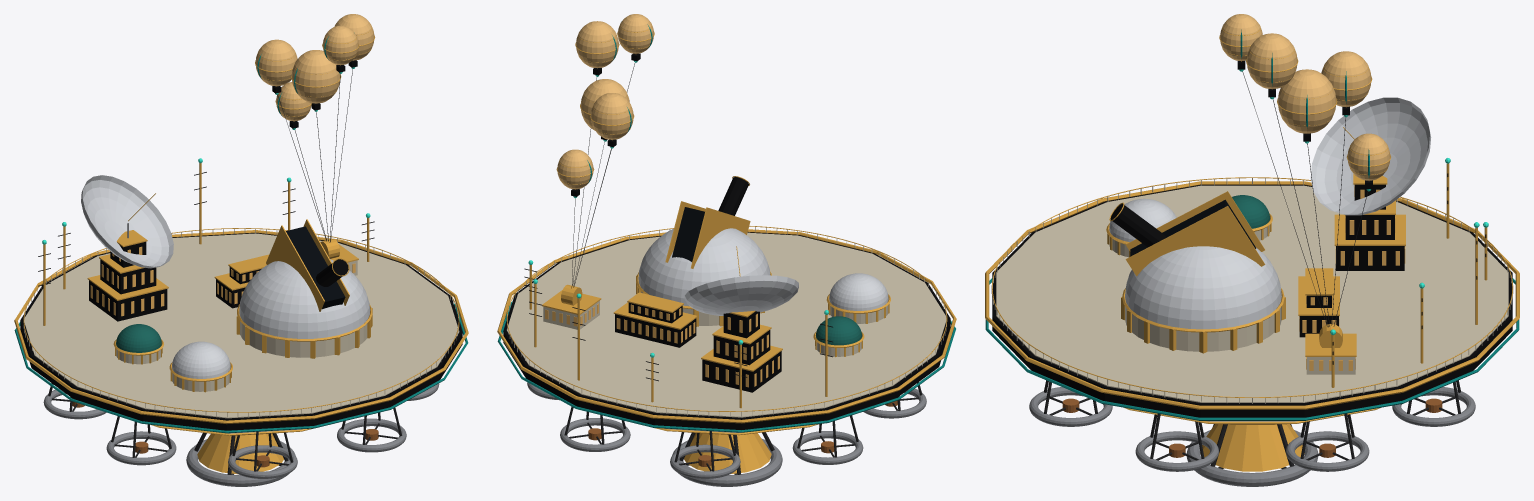
The model's file is station_science.obj.
3 views of the same model, side by side, from view 1: azimuth 30°, elevation 25°; view 2: azimuth 150°, elevation 25°; view 3: azimuth 270°, elevation 25° (orthographic). The views are drawn at different scales.
Parts seen in each view (by area): view 1: station_science; view 2: station_science; view 3: station_science.
Boxes of the visible parts, left/top/right/bottom form: station_science: left=14, top=14, right=468, bottom=486; station_science: left=497, top=14, right=956, bottom=486; station_science: left=985, top=14, right=1519, bottom=486.
Size of the model in its own units: 1000 by 1034 by 1000.
Materials: 1 (1 with a texture image).
